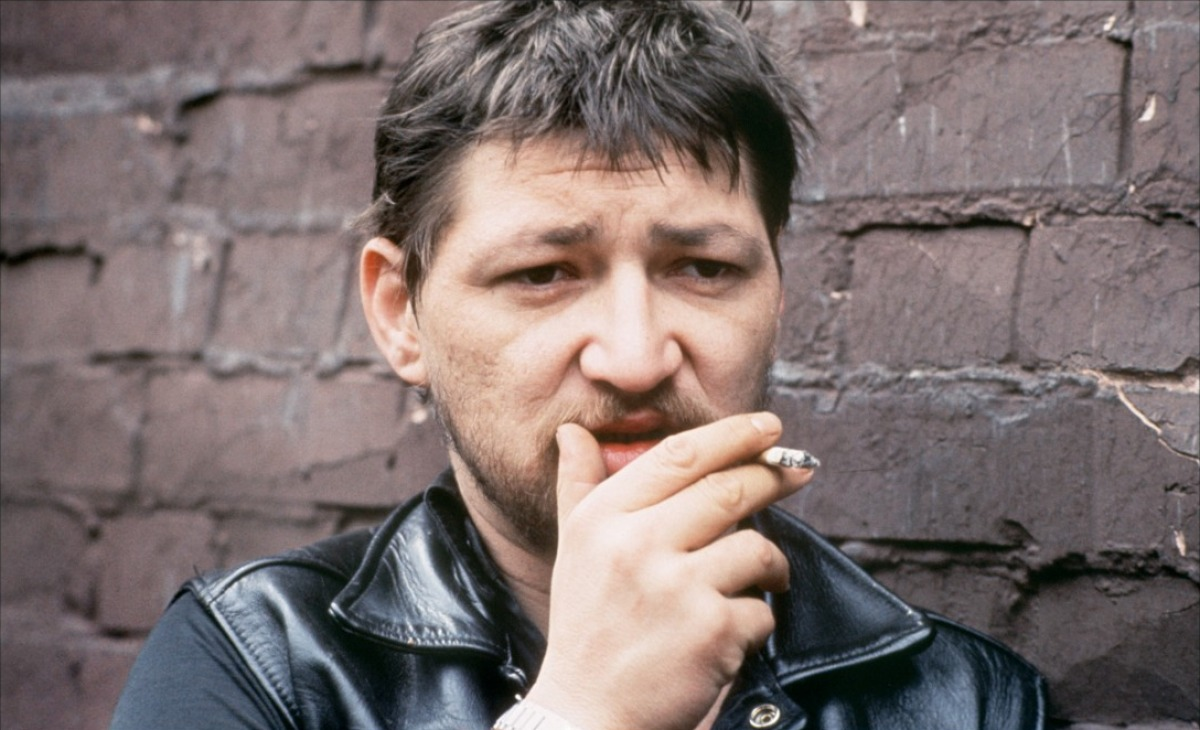cigarette: (737, 431, 827, 480)
